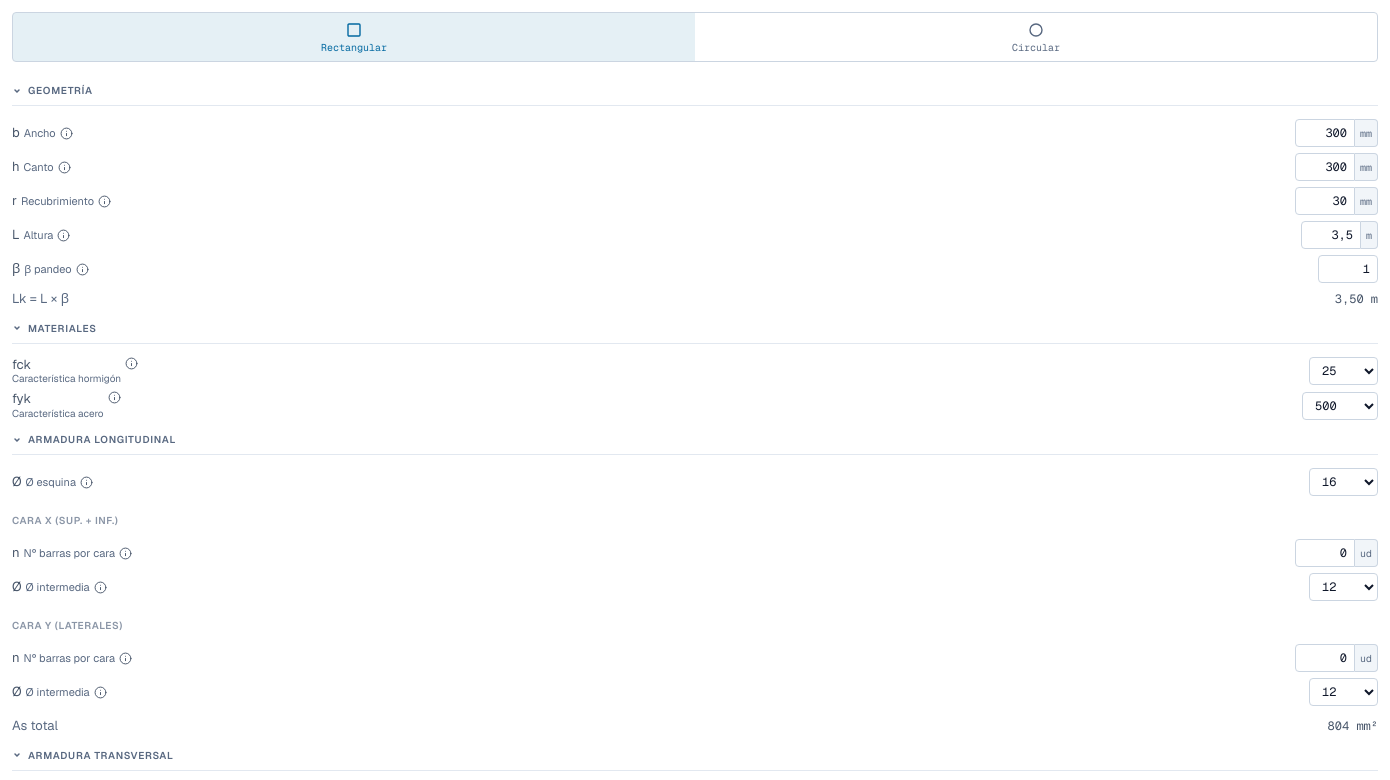
Scenario: Section-type selector › switching to circular swaps b/h for D and shows the ring bar count
Expected: the field with id "input-b" is shown, x1=1295 y1=119 x2=1355 y2=147
Click the button "Circular". click: (1036, 37)
box: x1=695 y1=13 x2=1377 y2=61
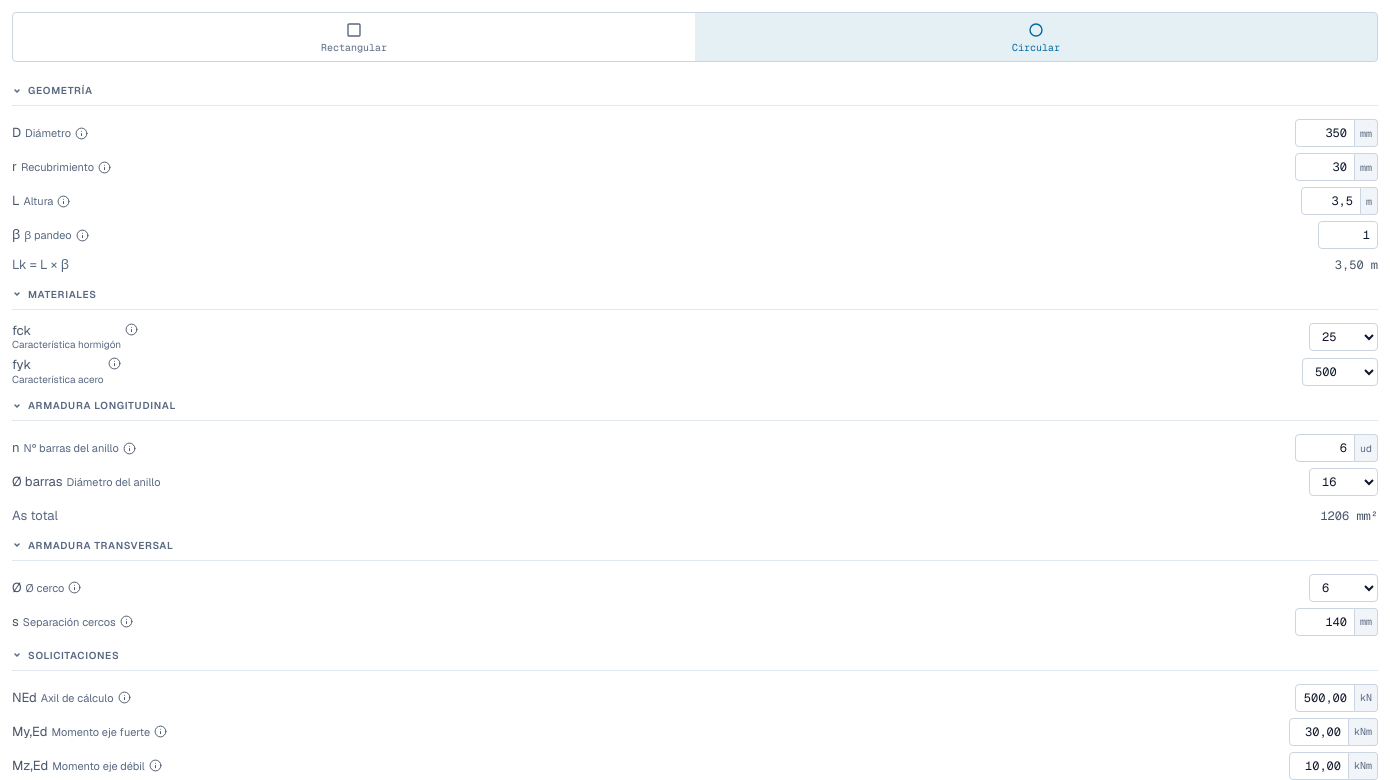
Result: the field with id "input-D" is shown at x1=1295 y1=119 x2=1355 y2=147
Result: the field with id "input-nBarsCirc" is shown at x1=1295 y1=434 x2=1355 y2=462
Result: the label with id "input-b" is gone
